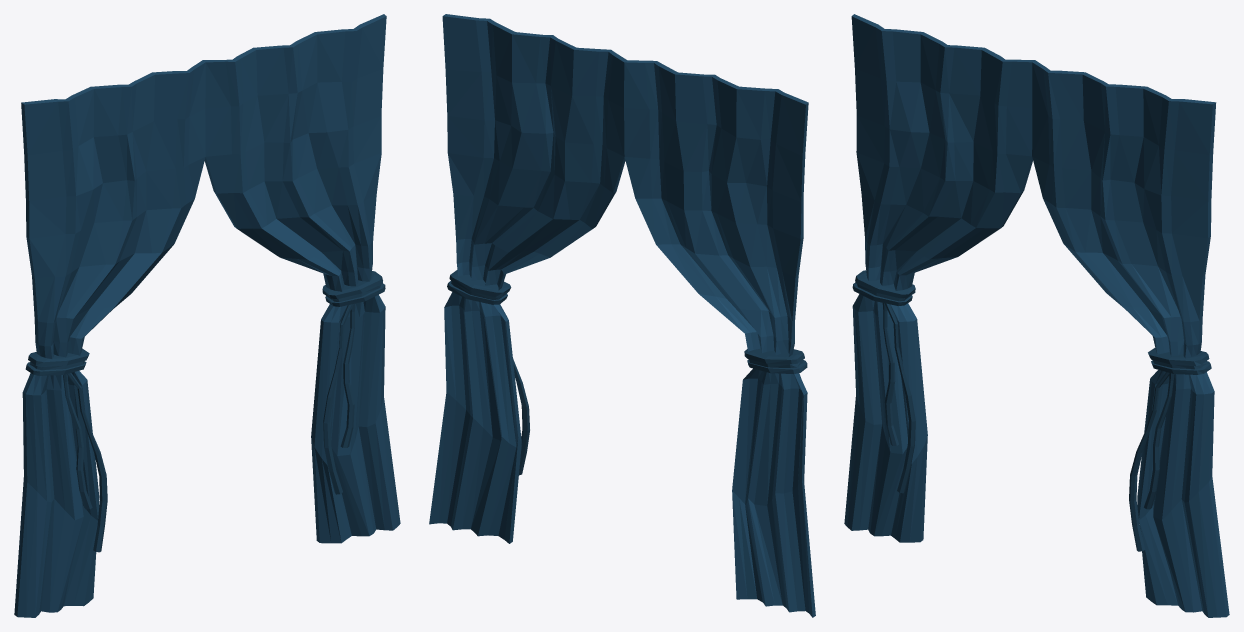
The model's file is SFHW_Curtain_M_004.fbx.
The picture shows the model from 3 angles, left to right: view 1: azimuth 30°, elevation 25°; view 2: azimuth 150°, elevation 25°; view 3: azimuth 330°, elevation 25°; orthographic projection.
Parts seen in each view (by area): view 1: SFHW_Curtain_M_004; view 2: SFHW_Curtain_M_004; view 3: SFHW_Curtain_M_004.
Boxes of the visible parts, x1,y1,x2,y2 form: SFHW_Curtain_M_004: (14, 14, 400, 617); SFHW_Curtain_M_004: (429, 14, 815, 617); SFHW_Curtain_M_004: (844, 14, 1229, 617).
Size of the model in its own units: 452 by 576 by 46.94.
